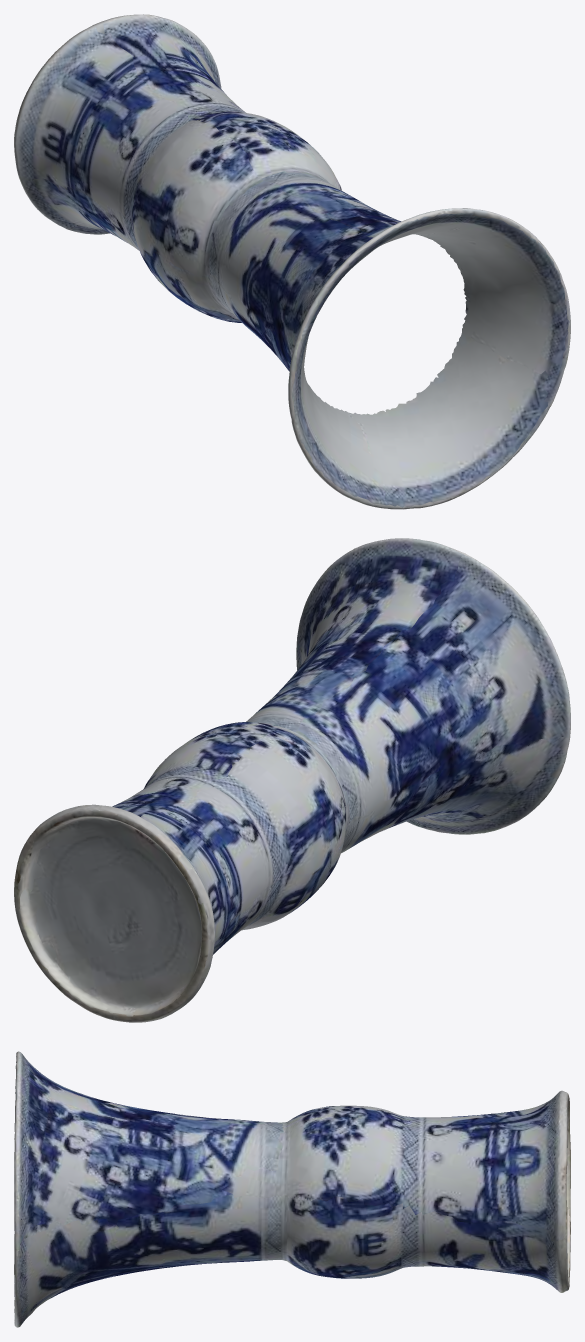
File: smithsonian-Beaker-shaped_vase_from_a_five-piece_garniture_F1980.190-.194_.glb
3 renders of one model, top to bottom at view 1: azimuth 30°, elevation 25°; view 2: azimuth 150°, elevation 25°; view 3: azimuth 270°, elevation 25°, orthographic. The views are drawn at different scales.
Visible parts, largest first — view 1: Mesh_0; view 2: Mesh_0; view 3: Mesh_0.
Boxes of the visible parts, x1=… form: Mesh_0: x1=14, y1=14, x2=570, y2=509; Mesh_0: x1=14, y1=538, x2=570, y2=1022; Mesh_0: x1=14, y1=1051, x2=570, y2=1327.
Size of the model in its own units: 0.2106 by 0.2109 by 0.4244.
Materials: 1 (1 with a texture image).
